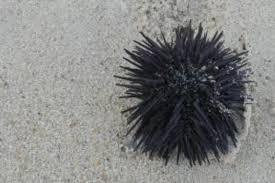urchin: (115, 23, 254, 165)
